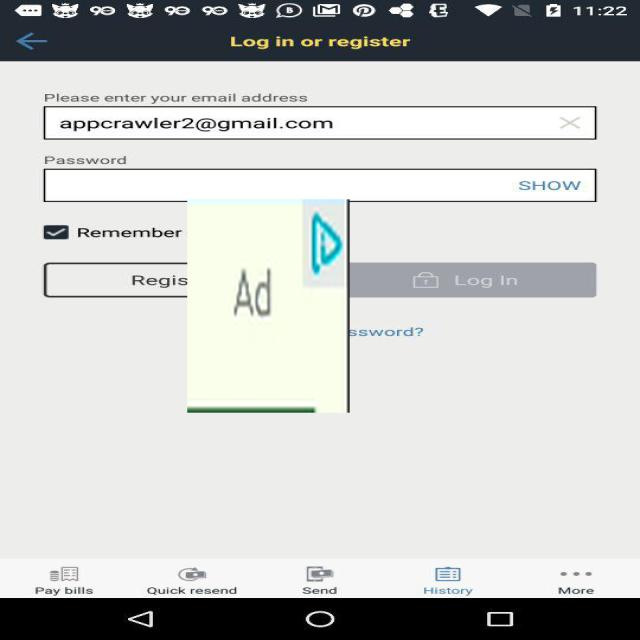sneaking: (187, 199, 350, 413)
